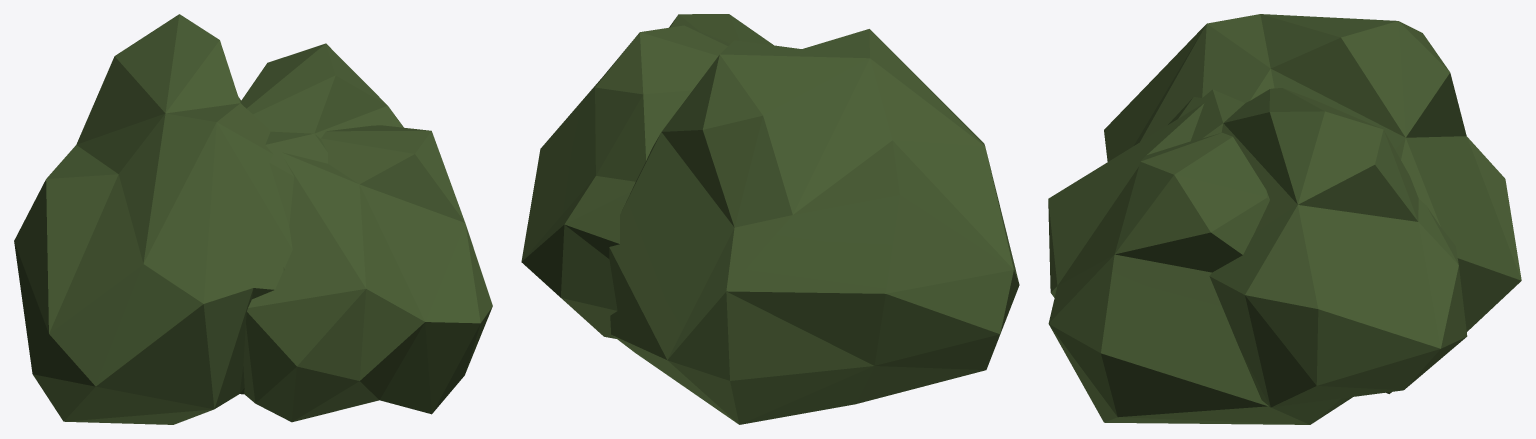
File: Struik.fbx
3 renders of one model, left to right at view 1: azimuth 30°, elevation 25°; view 2: azimuth 150°, elevation 25°; view 3: azimuth 270°, elevation 25°, orthographic. The views are drawn at different scales.
Visible parts, largest first — view 1: polySurface3412; view 2: polySurface3412; view 3: polySurface3412.
Part boxes in pixels (box(x1,y1,x2,y2)): polySurface3412: box(14, 14, 492, 424); polySurface3412: box(521, 14, 1019, 424); polySurface3412: box(1048, 14, 1521, 424).
Bounding box in the file's own units: 1.2 × 0.9082 × 1.11.
